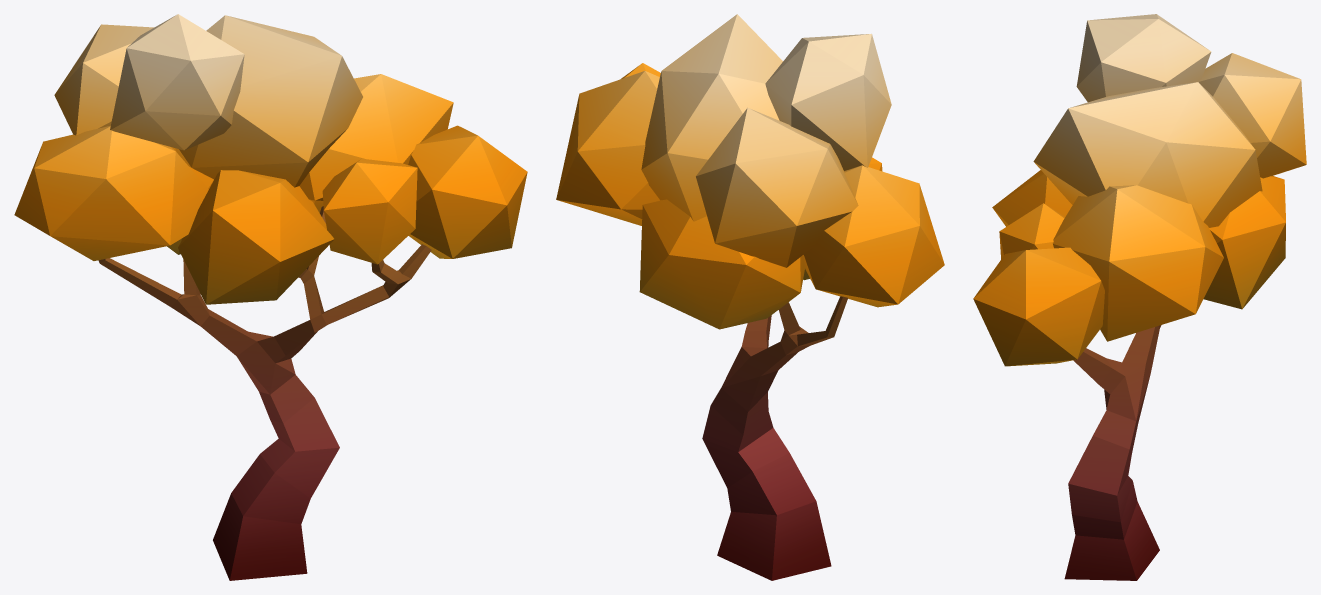
Rendered from Gradient_Tree_Oak_large_orange.glb.
The picture shows the model from 3 angles, left to right: view 1: azimuth 30°, elevation 25°; view 2: azimuth 150°, elevation 25°; view 3: azimuth 270°, elevation 25°; orthographic projection. The views are drawn at different scales.
Visible parts, largest first — view 1: Oak big orange g; view 2: Oak big orange g; view 3: Oak big orange g.
Boxes of the visible parts, x1,y1,x2,y2 form: Oak big orange g: (14, 14, 527, 580); Oak big orange g: (556, 14, 944, 580); Oak big orange g: (973, 14, 1306, 580).
Bounding box in the file's own units: 12.06 × 15.24 × 8.81.
1 material, 1 textured.
